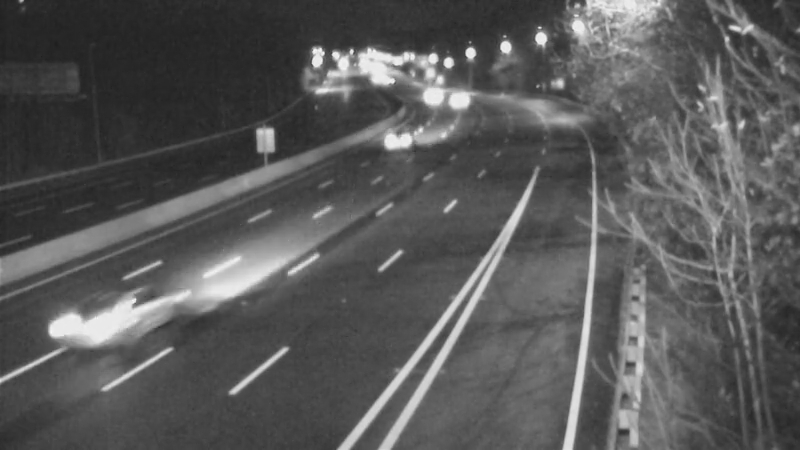vehicle: (39, 269, 149, 379), (408, 73, 458, 123), (434, 69, 484, 119), (373, 120, 423, 170)
